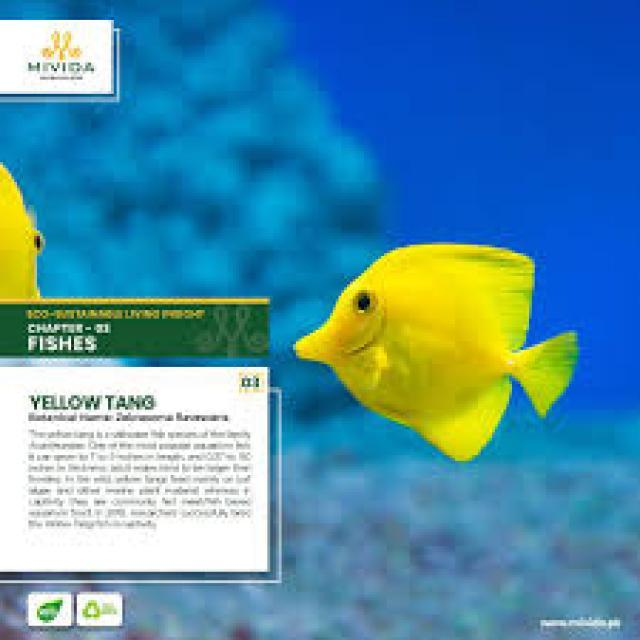YellowTang: (285, 234, 590, 474)
